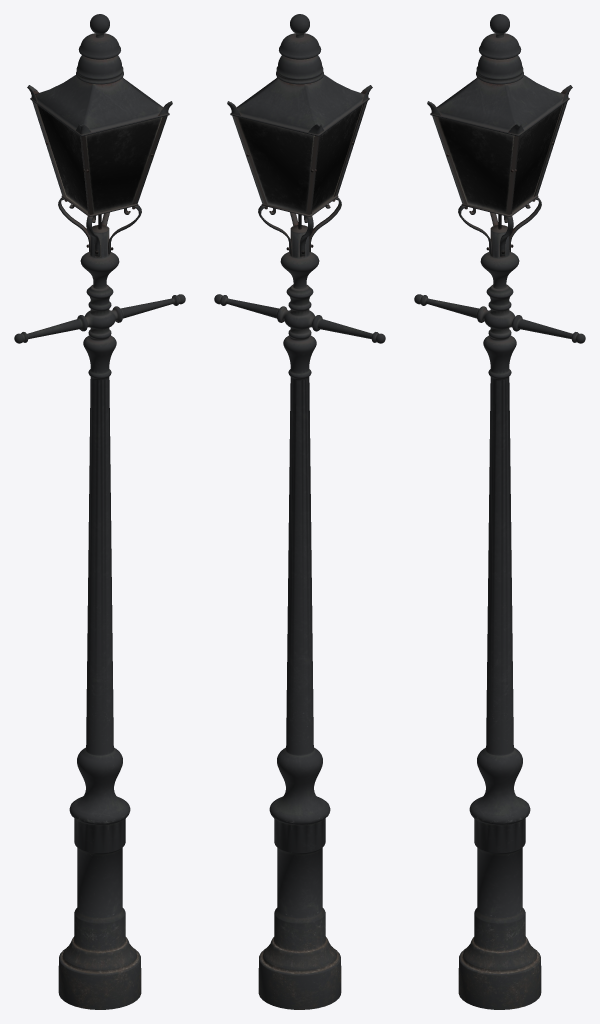
Rendered from lampione.fbx.
3 renders of one model, left to right at view 1: azimuth 30°, elevation 25°; view 2: azimuth 150°, elevation 25°; view 3: azimuth 330°, elevation 25°, orthographic.
Visible parts, largest first — view 1: street_lamp_01; view 2: street_lamp_01; view 3: street_lamp_01.
Boxes of the visible parts, x1,y1,x2,y2 form: street_lamp_01: (14,14,185,1009); street_lamp_01: (214,14,385,1009); street_lamp_01: (414,14,585,1009).
Bounding box in the file's own units: 70.43 × 387 × 38.66.
